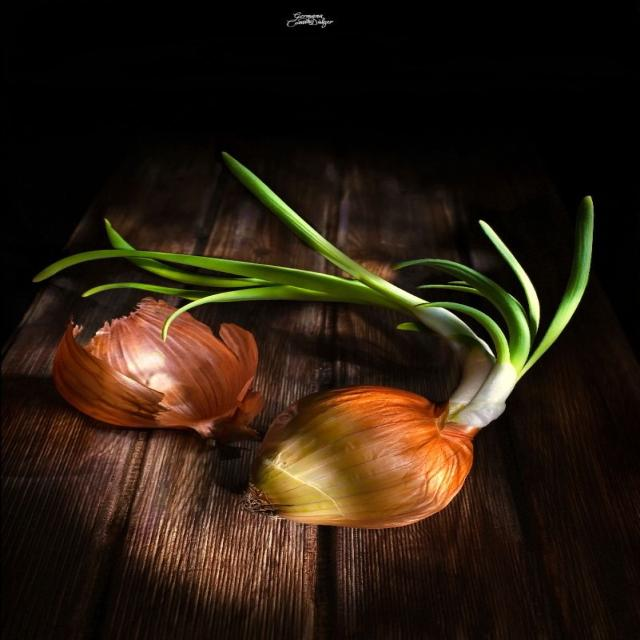sprouting: (210, 142, 596, 540)
